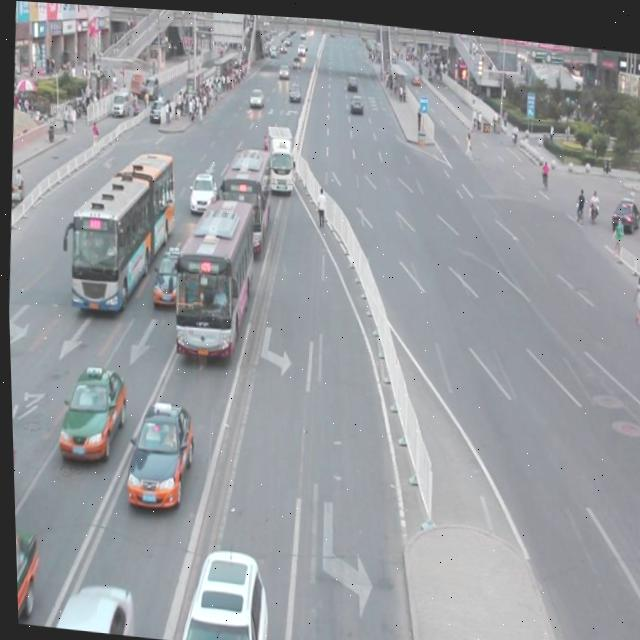bus: (263, 121, 294, 190)
car: (170, 538, 269, 640), (120, 396, 194, 511), (53, 361, 126, 459), (43, 582, 130, 635), (12, 528, 37, 625), (151, 243, 186, 303), (186, 169, 216, 211), (263, 125, 282, 155)
van: (56, 142, 177, 317), (169, 193, 257, 354), (214, 142, 271, 250)
